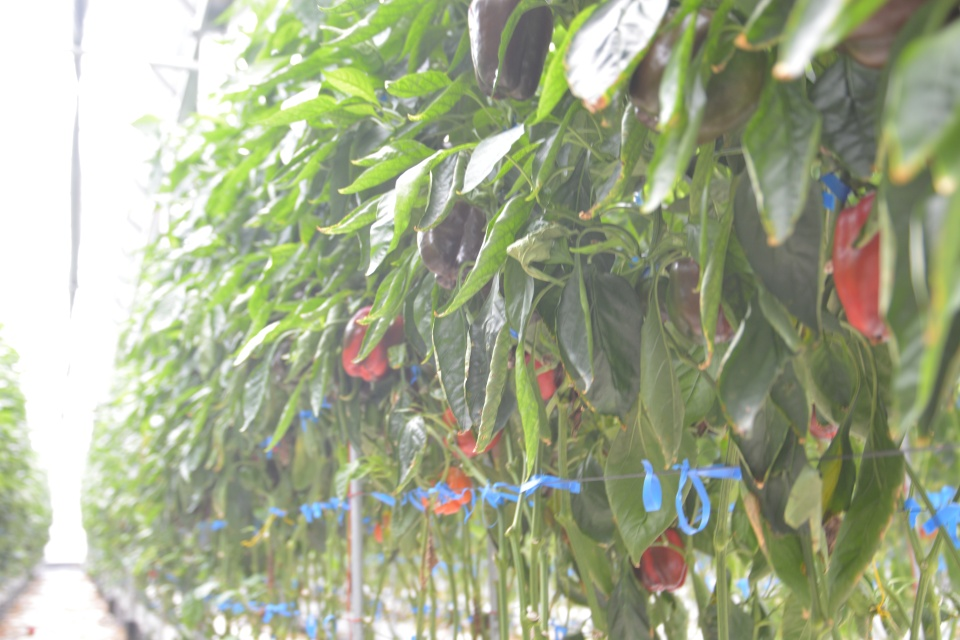fruit: (625, 0, 767, 145), (831, 190, 892, 346), (465, 0, 555, 104), (419, 196, 488, 290), (667, 256, 735, 338), (342, 304, 406, 384), (630, 524, 690, 596)
